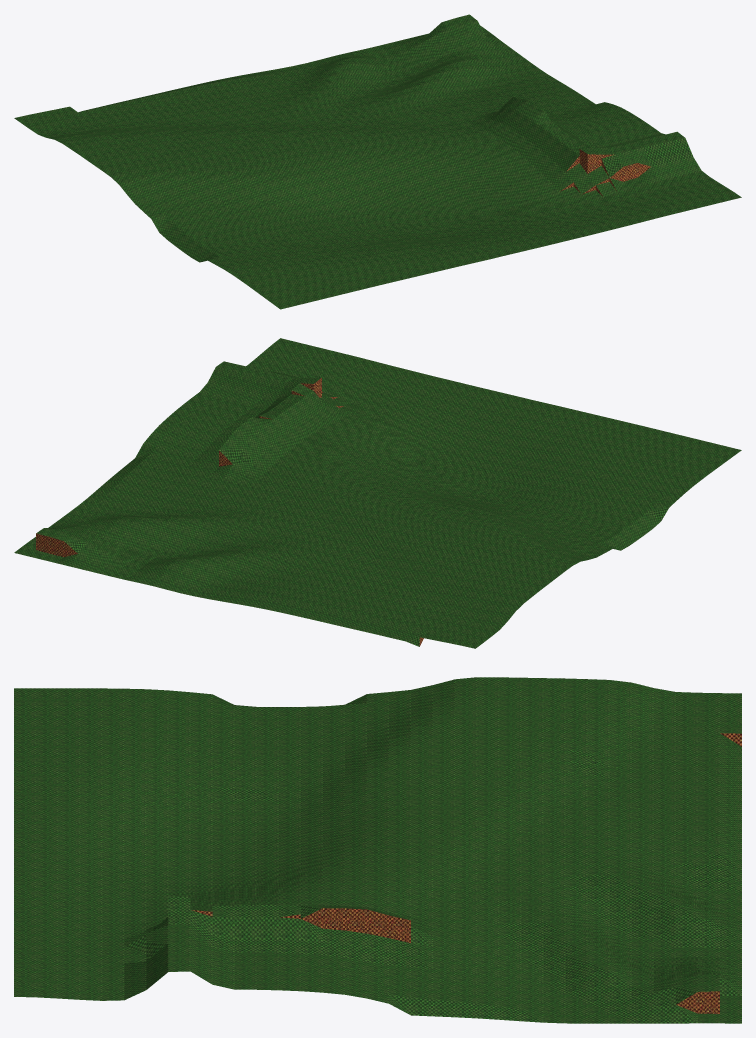
Rendered from testMap_01.fbx.
3 views of the same model, one above another, from view 1: azimuth 30°, elevation 25°; view 2: azimuth 150°, elevation 25°; view 3: azimuth 270°, elevation 25° (orthographic). The views are drawn at different scales.
Visible parts, largest first — view 1: testMap_33_01_chunk_2__1, testMap_33_01_chunk_1__1, testMap_33_01_chunk_0__2, testMap_33_01_chunk_1__2, testMap_33_01_chunk_0__0, testMap_33_01_chunk_2__2, testMap_33_01_chunk_1__0, testMap_33_01_chunk_2__0, testMap_33_01_chunk_0__1, testMap_33_01_sidemesh_0_2; view 2: testMap_33_01_chunk_0__1, testMap_33_01_chunk_1__2, testMap_33_01_chunk_2__0, testMap_33_01_chunk_1__0, testMap_33_01_chunk_2__2, testMap_33_01_chunk_0__0, testMap_33_01_chunk_0__2, testMap_33_01_chunk_1__1, testMap_33_01_chunk_2__1, testMap_33_01_sidemesh_0_0; view 3: testMap_33_01_chunk_2__0, testMap_33_01_chunk_0__0, testMap_33_01_chunk_1__0, testMap_33_01_chunk_2__2, testMap_33_01_chunk_0__1, testMap_33_01_chunk_1__1, testMap_33_01_chunk_2__1, testMap_33_01_chunk_1__2, testMap_33_01_chunk_0__2, testMap_33_01_sidemesh_0_1, testMap_33_01_sidemesh_0_0.
Part boxes in pixels (box(x1,y1,x2,y2)): testMap_33_01_chunk_2__1: box(103, 139, 344, 257); testMap_33_01_chunk_1__1: box(257, 110, 498, 221); testMap_33_01_chunk_0__2: box(499, 127, 741, 235); testMap_33_01_chunk_1__2: box(346, 172, 587, 272); testMap_33_01_chunk_0__0: box(322, 14, 563, 110); testMap_33_01_chunk_2__2: box(192, 222, 433, 309); testMap_33_01_chunk_1__0: box(169, 59, 409, 138); testMap_33_01_chunk_2__0: box(14, 91, 255, 171); testMap_33_01_chunk_0__1: box(411, 84, 652, 171); testMap_33_01_sidemesh_0_2: box(560, 149, 650, 196); testMap_33_01_chunk_0__1: box(103, 398, 344, 511); testMap_33_01_chunk_1__2: box(346, 376, 587, 492); testMap_33_01_chunk_2__0: box(322, 539, 563, 648); testMap_33_01_chunk_1__0: box(168, 511, 409, 621); testMap_33_01_chunk_2__2: box(500, 413, 741, 528); testMap_33_01_chunk_0__0: box(14, 485, 255, 589); testMap_33_01_chunk_0__2: box(192, 338, 433, 442); testMap_33_01_chunk_1__1: box(257, 442, 498, 539); testMap_33_01_chunk_2__1: box(411, 492, 652, 571); testMap_33_01_sidemesh_0_0: box(36, 533, 77, 556); testMap_33_01_chunk_2__0: box(499, 677, 741, 810); testMap_33_01_chunk_0__0: box(499, 901, 741, 1023); testMap_33_01_chunk_1__0: box(499, 787, 741, 920); testMap_33_01_chunk_2__2: box(14, 688, 256, 811); testMap_33_01_chunk_0__1: box(256, 890, 499, 1019); testMap_33_01_chunk_1__1: box(256, 785, 499, 901); testMap_33_01_chunk_2__1: box(256, 677, 499, 811); testMap_33_01_chunk_1__2: box(14, 791, 256, 906); testMap_33_01_chunk_0__2: box(14, 895, 256, 1000); testMap_33_01_sidemesh_0_1: box(280, 908, 410, 942); testMap_33_01_sidemesh_0_0: box(676, 991, 719, 1013).
Bounding box in the file's own units: 9900 × 933 × 9900.
Materials: 10 (10 with a texture image).
